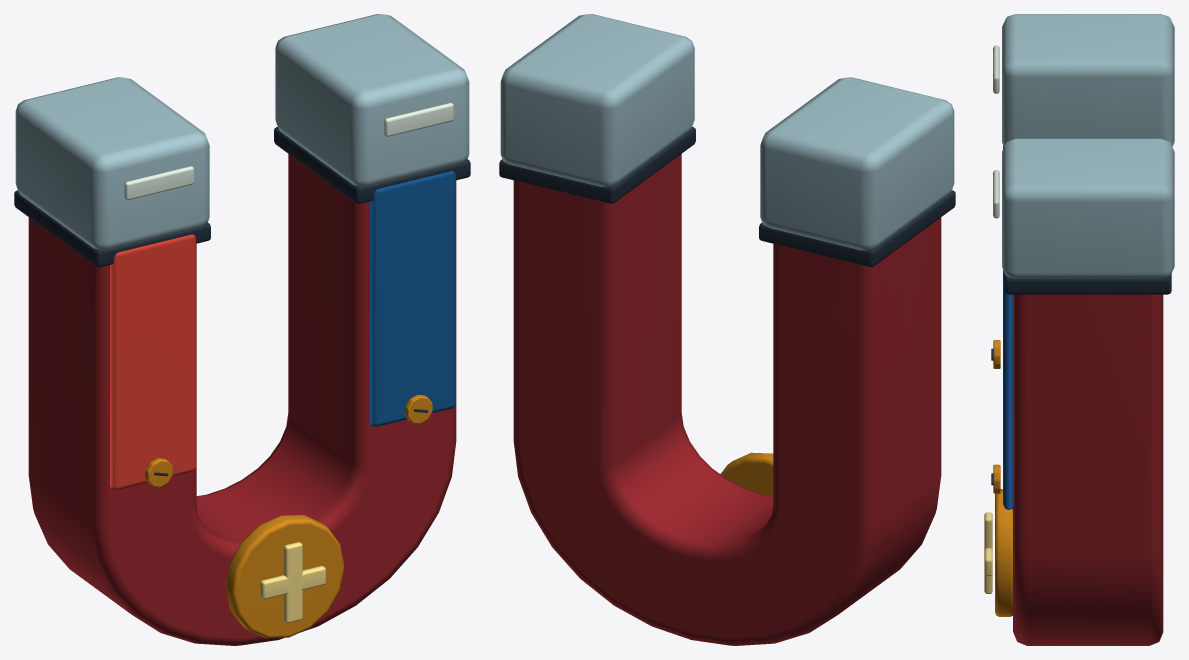
The model's file is repair_magnet.glb.
3 views of the same model, side by side, from view 1: azimuth 30°, elevation 25°; view 2: azimuth 150°, elevation 25°; view 3: azimuth 270°, elevation 25° (orthographic).
Visible parts, largest first — view 1: repair_magnet_runtime; view 2: repair_magnet_runtime; view 3: repair_magnet_runtime.
Part boxes in pixels (<box>): repair_magnet_runtime: <box>14,14,470,645</box>; repair_magnet_runtime: <box>499,14,955,645</box>; repair_magnet_runtime: <box>984,14,1174,645</box>.
Size of the model in its own units: 0.9625 by 1.3 by 0.4269.
1 material, 1 textured.
